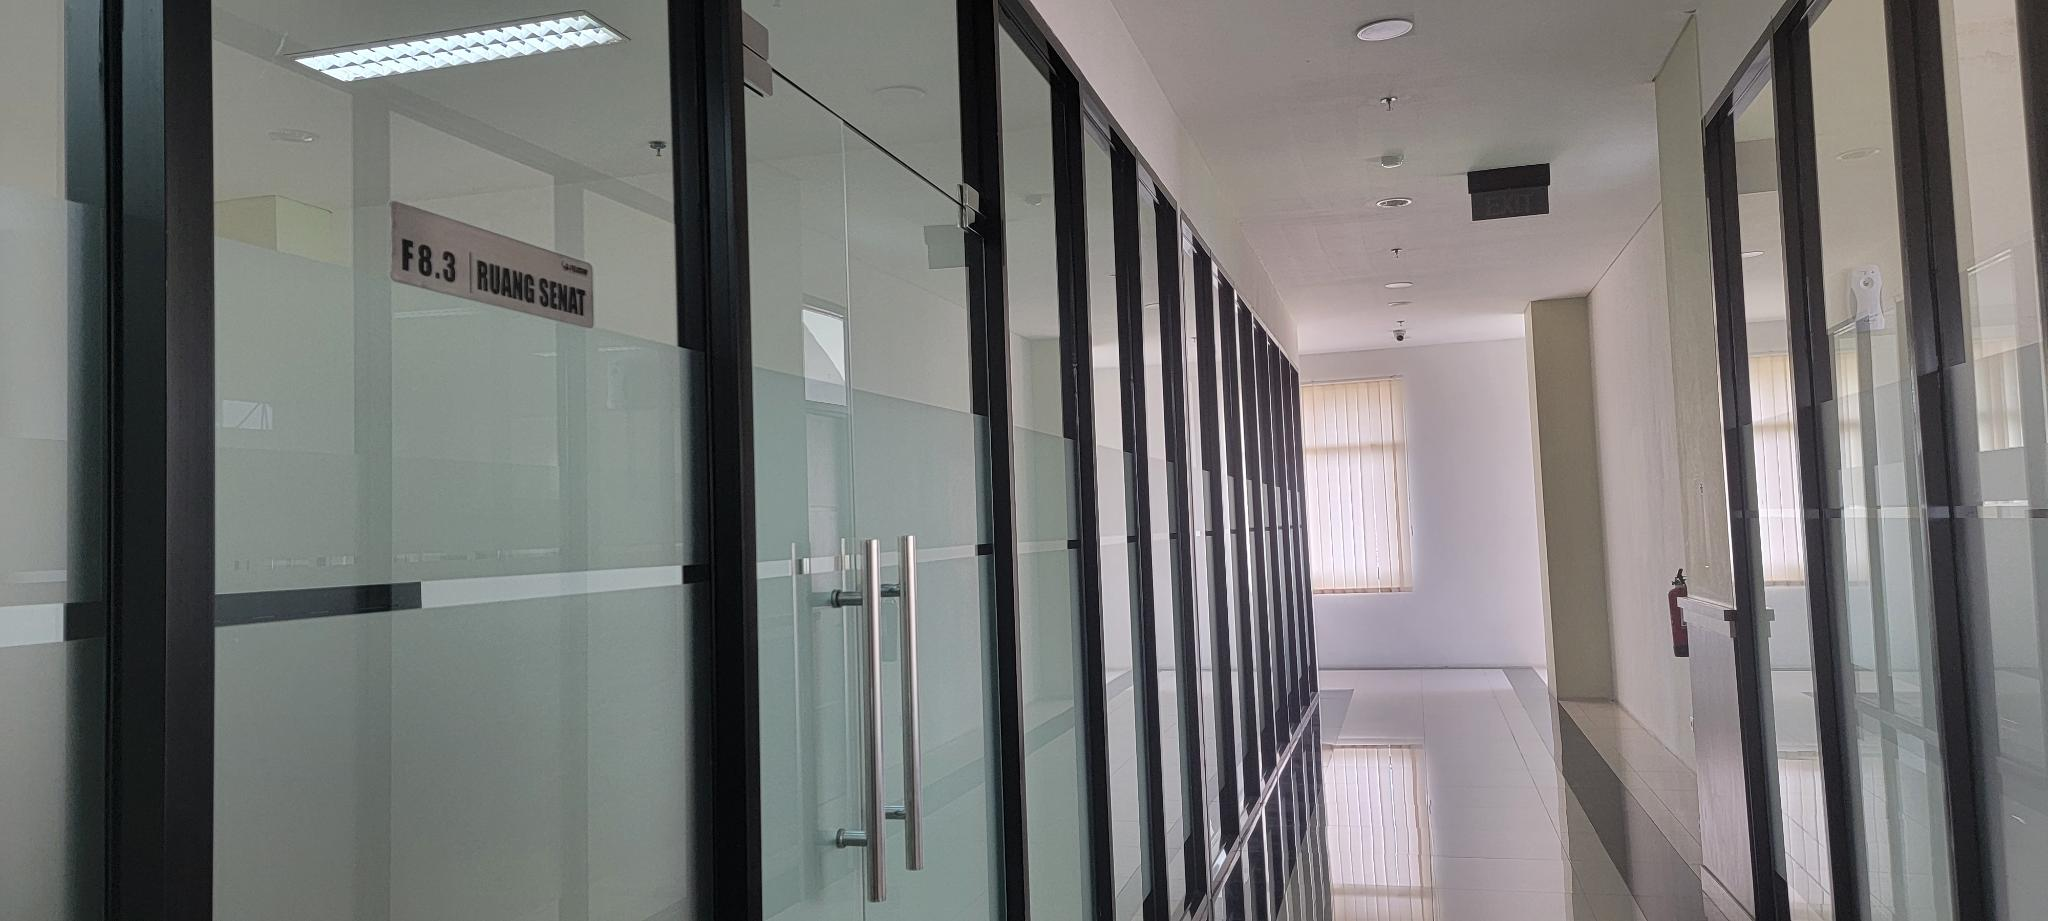plate: (391, 199, 594, 332)
